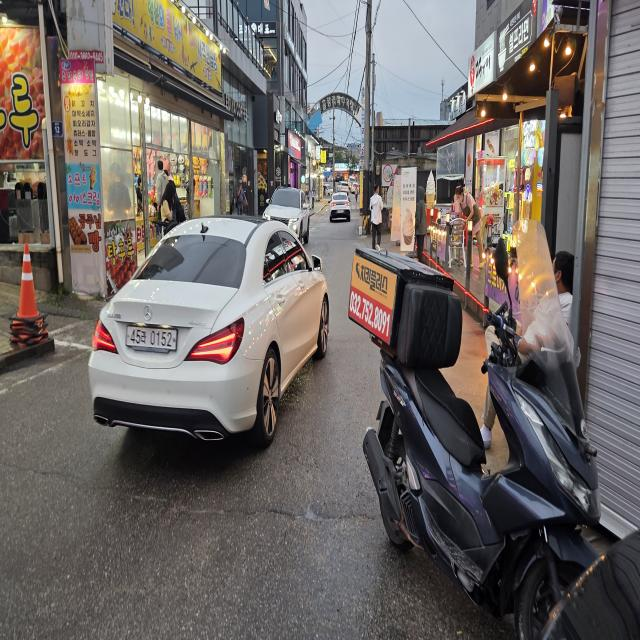car: (78, 190, 342, 466), (253, 176, 318, 253), (322, 175, 353, 230)
motorcycle: (342, 231, 620, 629)
